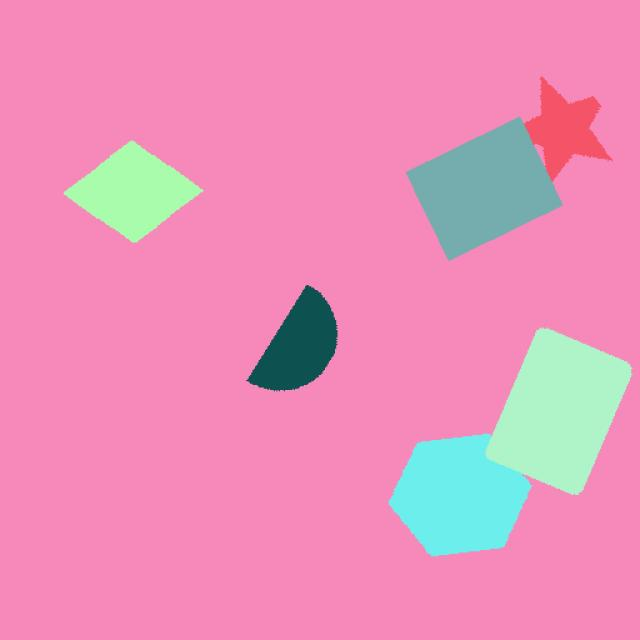Hexagon: (376, 419, 542, 566)
Kite: (75, 128, 217, 254)
Rectangle: (485, 308, 639, 499), (388, 118, 576, 246)
Semicircle: (238, 272, 352, 400)
Star: (504, 66, 640, 196)
